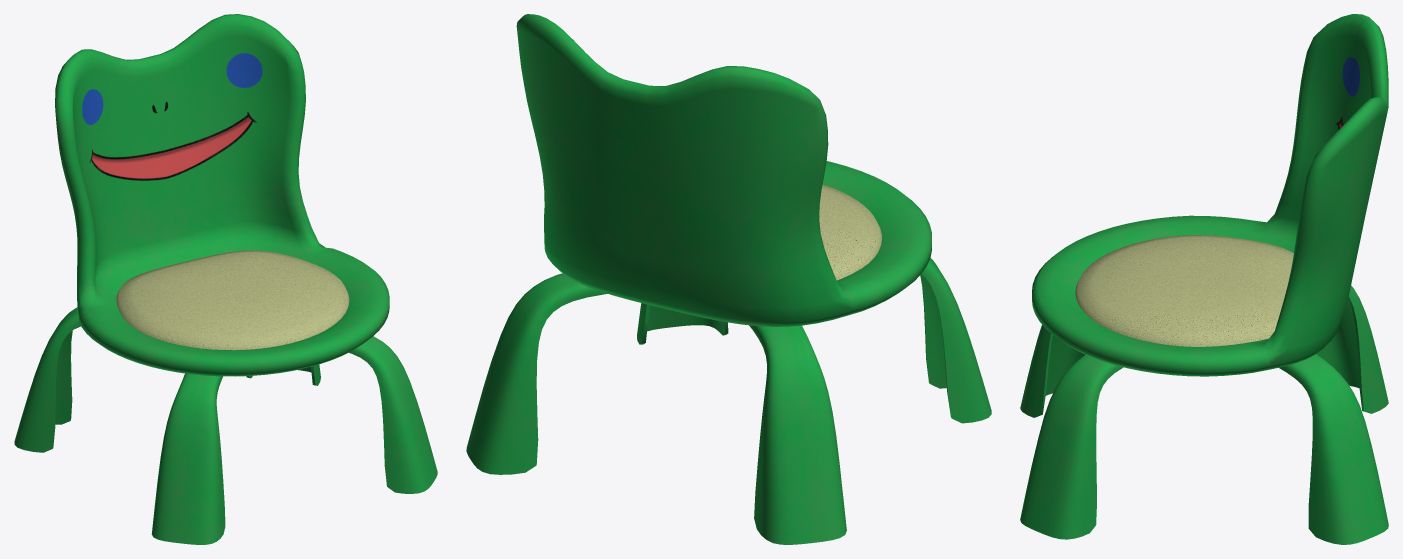
File: frogChair.glb
3 renders of one model, left to right at view 1: azimuth 30°, elevation 25°; view 2: azimuth 150°, elevation 25°; view 3: azimuth 270°, elevation 25°, orthographic. The views are drawn at different scales.
Visible parts, largest first — view 1: Chair; view 2: Chair; view 3: Chair.
Boxes of the visible parts, x1,y1,x2,y2 form: Chair: (14,14,437,544); Chair: (466,14,991,544); Chair: (1020,14,1388,544).
Size of the model in its own units: 0.6196 by 0.7235 by 0.5984.
2 materials, 2 textured.
